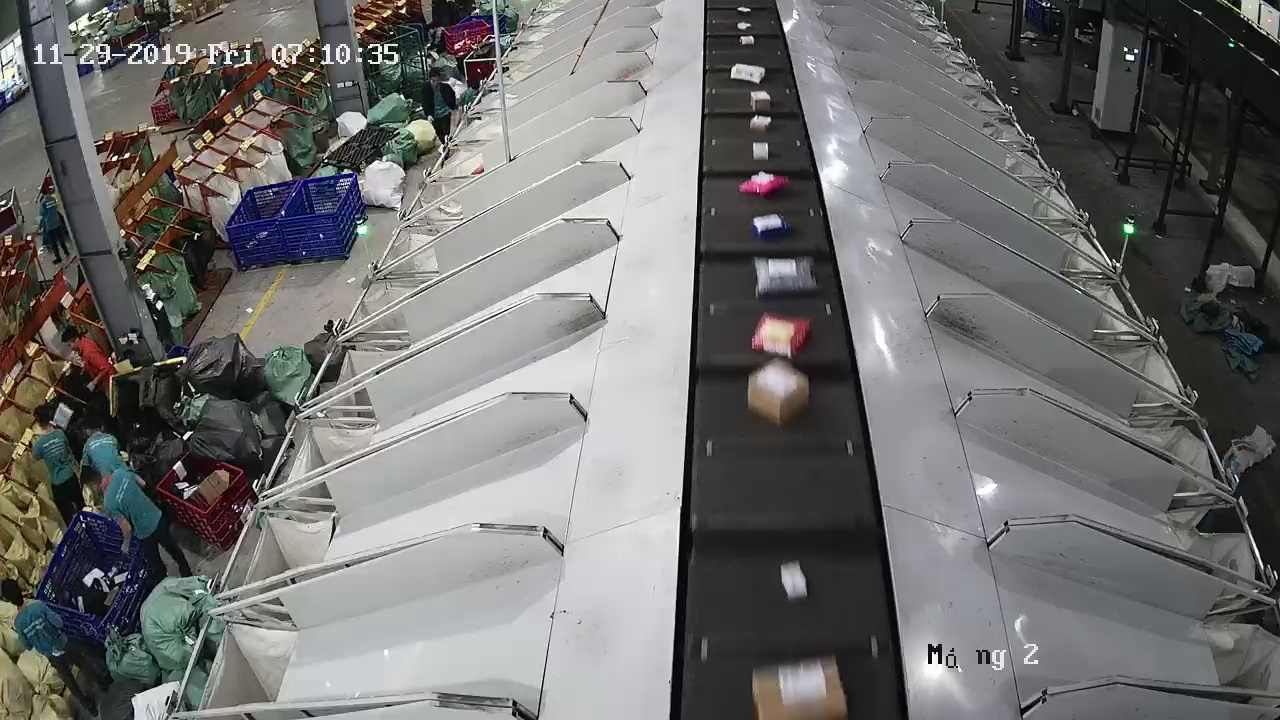parcel: (746, 357, 810, 428), (751, 311, 813, 360), (752, 255, 820, 299), (737, 170, 791, 199), (750, 211, 793, 241), (780, 559, 808, 600), (750, 115, 772, 134), (752, 141, 769, 161)
